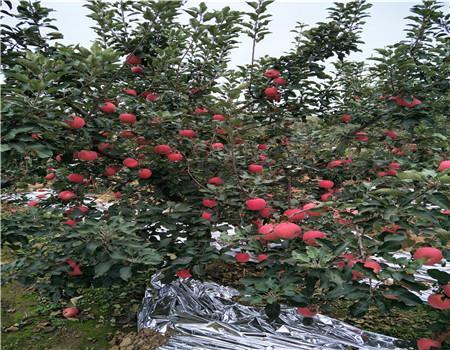apple: (414, 246, 445, 266), (273, 221, 300, 240), (153, 145, 171, 156), (265, 86, 278, 100), (263, 69, 281, 79)
